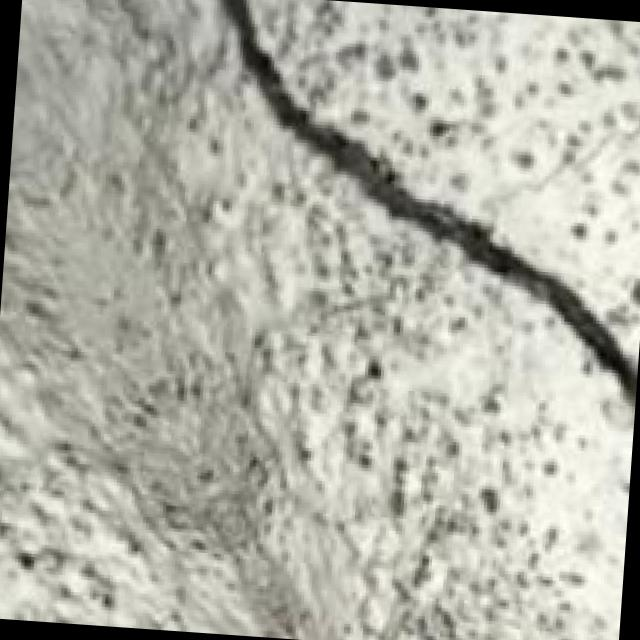crack: (190, 0, 640, 425)
